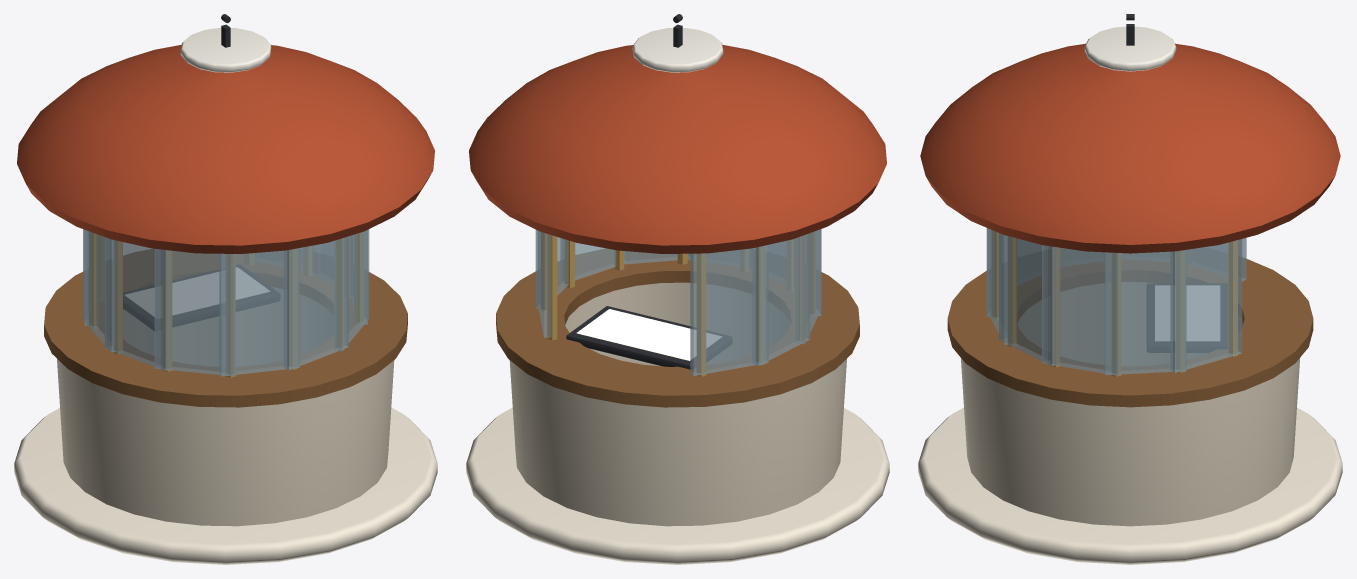
Rendered from info_kiosk.glb.
The picture shows the model from 3 angles, left to right: view 1: azimuth 30°, elevation 25°; view 2: azimuth 150°, elevation 25°; view 3: azimuth 270°, elevation 25°; orthographic projection.
Parts seen in each view (by area): view 1: info_kiosk; view 2: info_kiosk; view 3: info_kiosk.
Boxes of the visible parts, <box> form: info_kiosk: <box>14,14,437,564</box>; info_kiosk: <box>466,14,889,564</box>; info_kiosk: <box>918,14,1342,564</box>.
Size of the model in its own units: 2.6 by 3.14 by 2.6.
